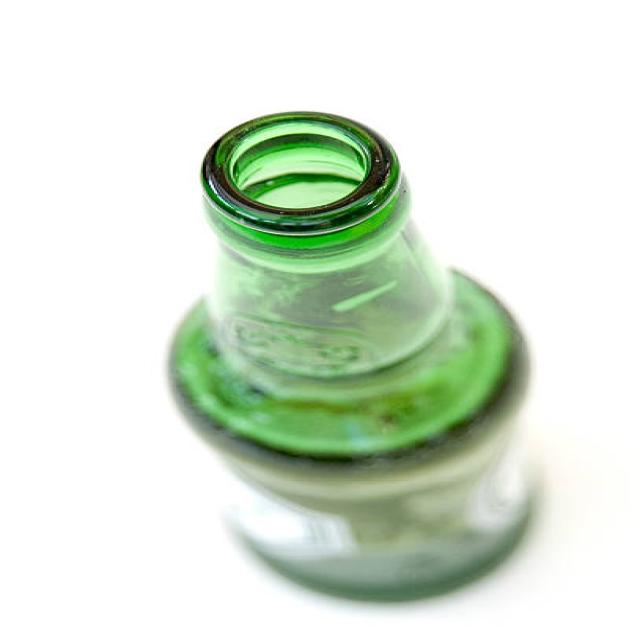electronic: (164, 104, 570, 621)
